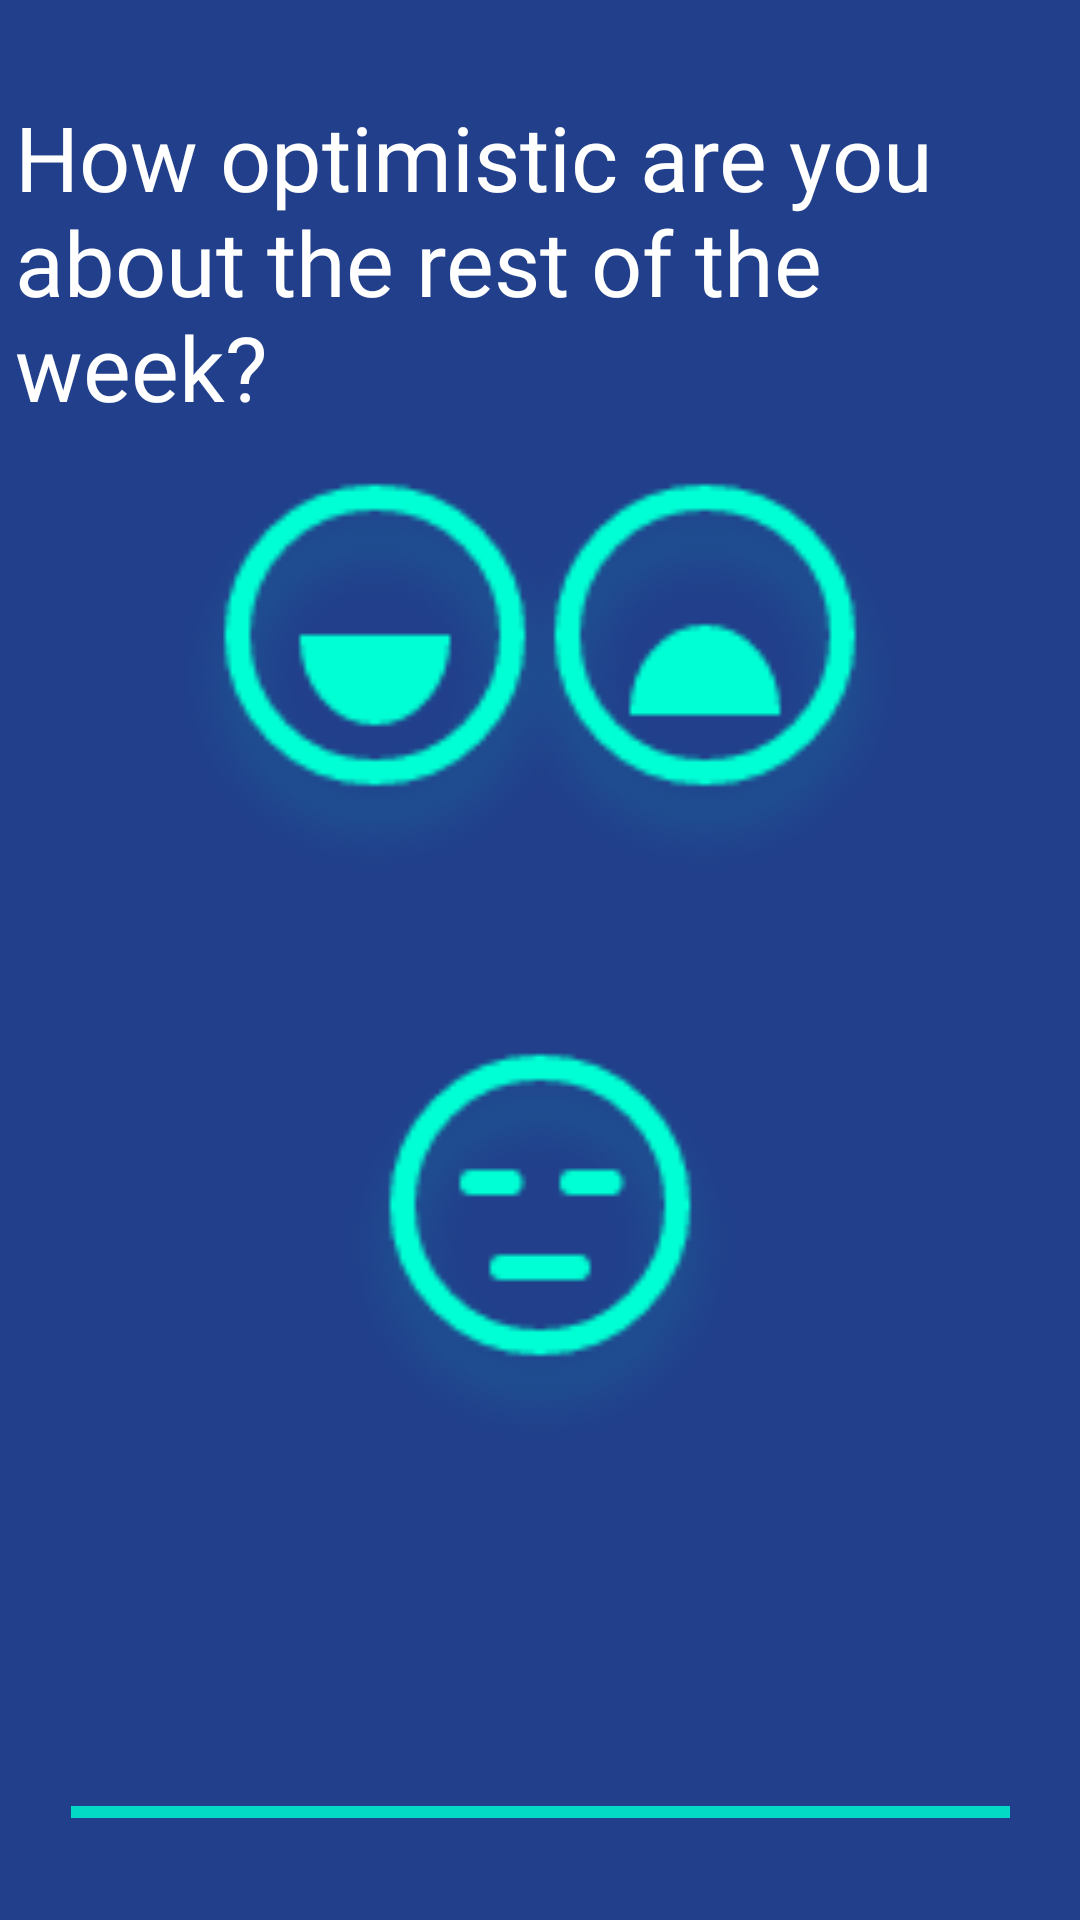

Screen size 1080x1920. Icon name, then its box in pixels as {"left": x1, "top": y1, "right": x2, "bottom": y2}:
happytwo: {"left": 223, "top": 483, "right": 527, "bottom": 787}
mehtwo: {"left": 388, "top": 1053, "right": 692, "bottom": 1357}
sadtwo: {"left": 553, "top": 483, "right": 857, "bottom": 787}
